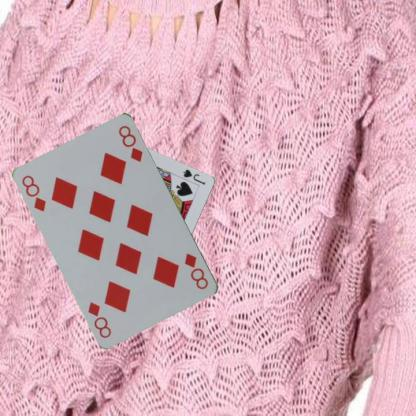8d: (19, 173, 48, 213), (182, 250, 210, 291)
Js: (180, 167, 206, 186)
